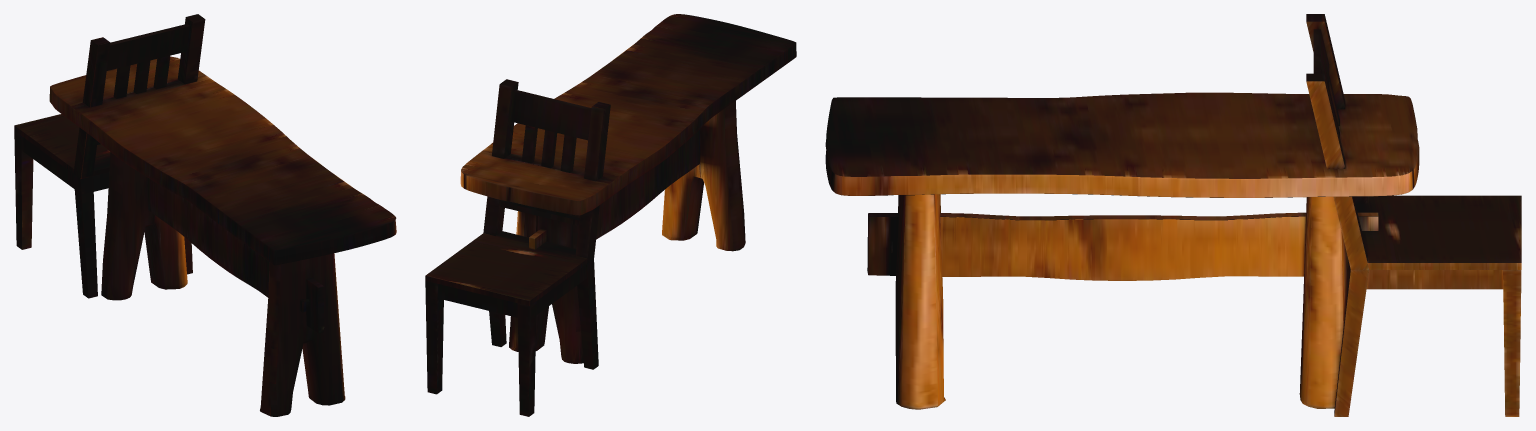
Rendered from table-1k.glb.
3 renders of one model, left to right at view 1: azimuth 30°, elevation 25°; view 2: azimuth 150°, elevation 25°; view 3: azimuth 270°, elevation 25°, orthographic. The views are drawn at different scales.
Bounding box in the file's own units: 9.67 × 17.5 × 32.81.
Materials: 1 (1 with a texture image).
